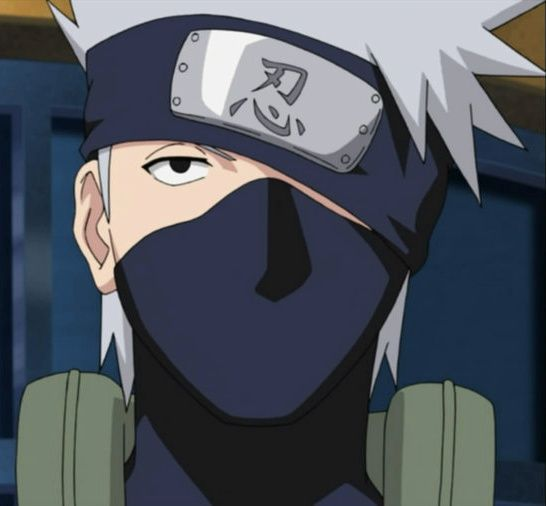kakashi: (66, 10, 456, 430)
